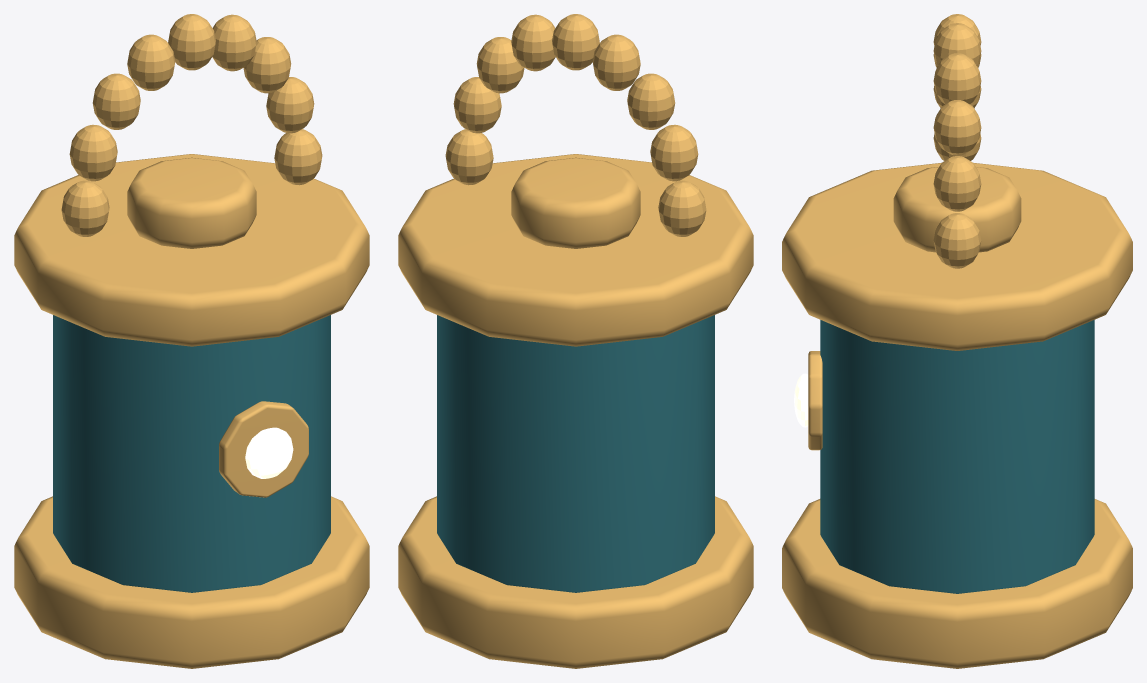
File: starlight_lantern.glb
The picture shows the model from 3 angles, left to right: view 1: azimuth 30°, elevation 25°; view 2: azimuth 150°, elevation 25°; view 3: azimuth 270°, elevation 25°; orthographic projection.
Parts seen in each view (by area): view 1: Enamel body, Lantern crown, Lantern foot, Lantern cap, Savings medallion, Handle link.005, Handle link.007, Handle link.008, Handle link.006, Handle link.004, Handle link, Handle link.001 (+3 smaller); view 2: Enamel body, Lantern crown, Lantern foot, Lantern cap, Handle link.005, Handle link.007, Handle link.008, Handle link.006, Handle link.004, Handle link, Handle link.001, Handle link.003 (+1 smaller); view 3: Enamel body, Lantern crown, Lantern foot, Lantern cap, Handle link, Handle link.001, Handle link.002, Handle link.003, Savings medallion, Handle link.004, Medallion star.
Boxes of the visible parts, x1,y1,x2,y2 form: Enamel body: (53,315,330,592); Lantern crown: (14,154,369,346); Lantern foot: (14,496,369,668); Lantern cap: (127,157,256,248); Savings medallion: (219,401,308,497); Handle link.005: (127,34,175,90); Handle link.007: (69,124,117,181); Handle link.008: (61,180,109,236); Handle link.006: (92,73,140,129); Handle link.004: (168,14,215,70); Handle link: (274,129,322,185); Handle link.001: (266,77,314,133); Enamel body: (437,315,714,592); Lantern crown: (398,154,753,346); Lantern foot: (398,496,753,668); Lantern cap: (511,157,640,248); Handle link.005: (592,34,640,90); Handle link.007: (650,124,698,181); Handle link.008: (658,180,706,236); Handle link.006: (627,73,675,129); Handle link.004: (552,14,599,70); Handle link: (445,129,493,185); Handle link.001: (453,77,501,133); Handle link.003: (511,14,555,71); Enamel body: (820,320,1094,593); Lantern crown: (782,163,1132,350); Lantern foot: (782,499,1132,668); Lantern cap: (893,167,1021,252); Handle link: (933,213,981,268); Handle link.001: (933,156,981,211); Handle link.002: (933,100,981,155); Handle link.003: (933,53,981,104); Savings medallion: (808,351,822,450); Handle link.004: (933,23,981,65); Medallion star: (794,373,808,427).
Bounding box in the file's own units: 1.1 × 1.99 × 1.1.
